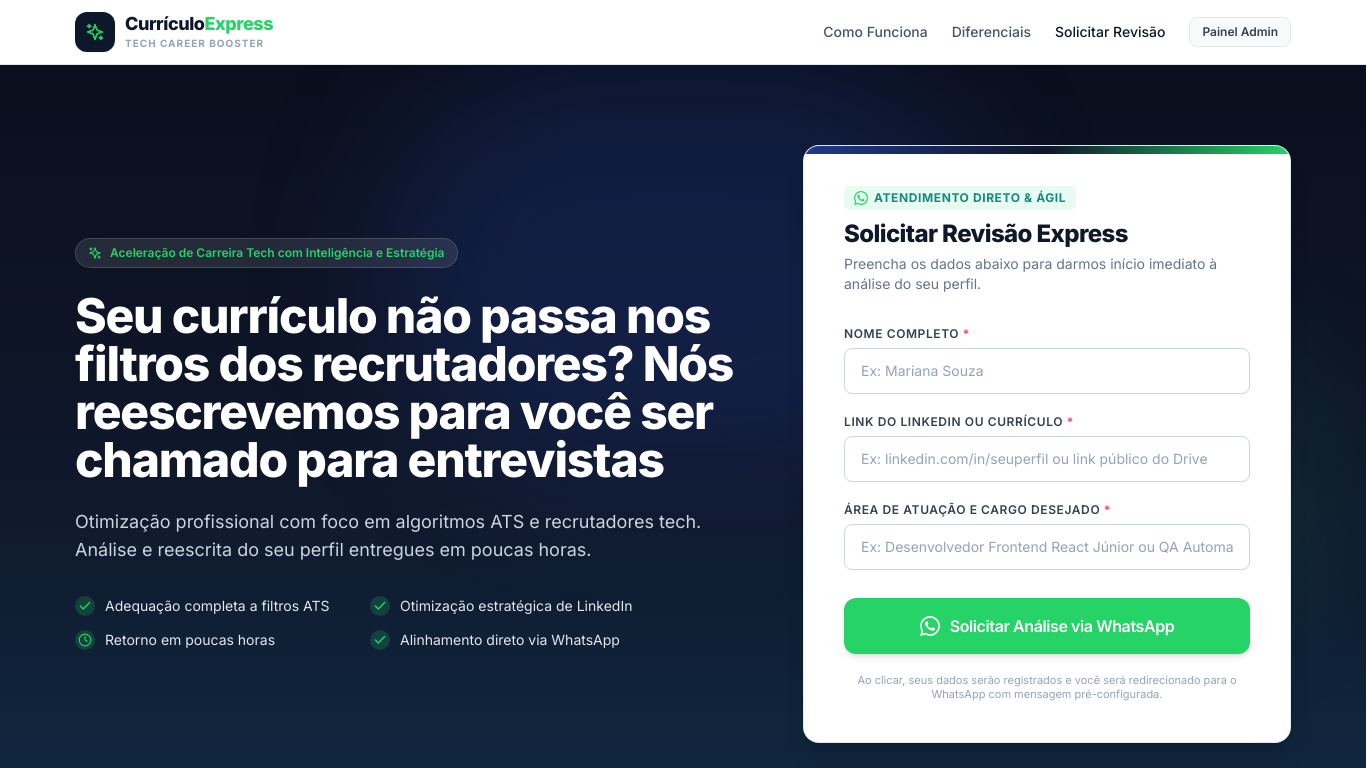
Test case: LandingPage Component › validates required fields on empty submit and displays error hints
The width and height of the screenshot is (1366, 768).
Click the button "Solicitar Análise via WhatsApp": (1047, 626) left=844, top=598, right=1250, bottom=654
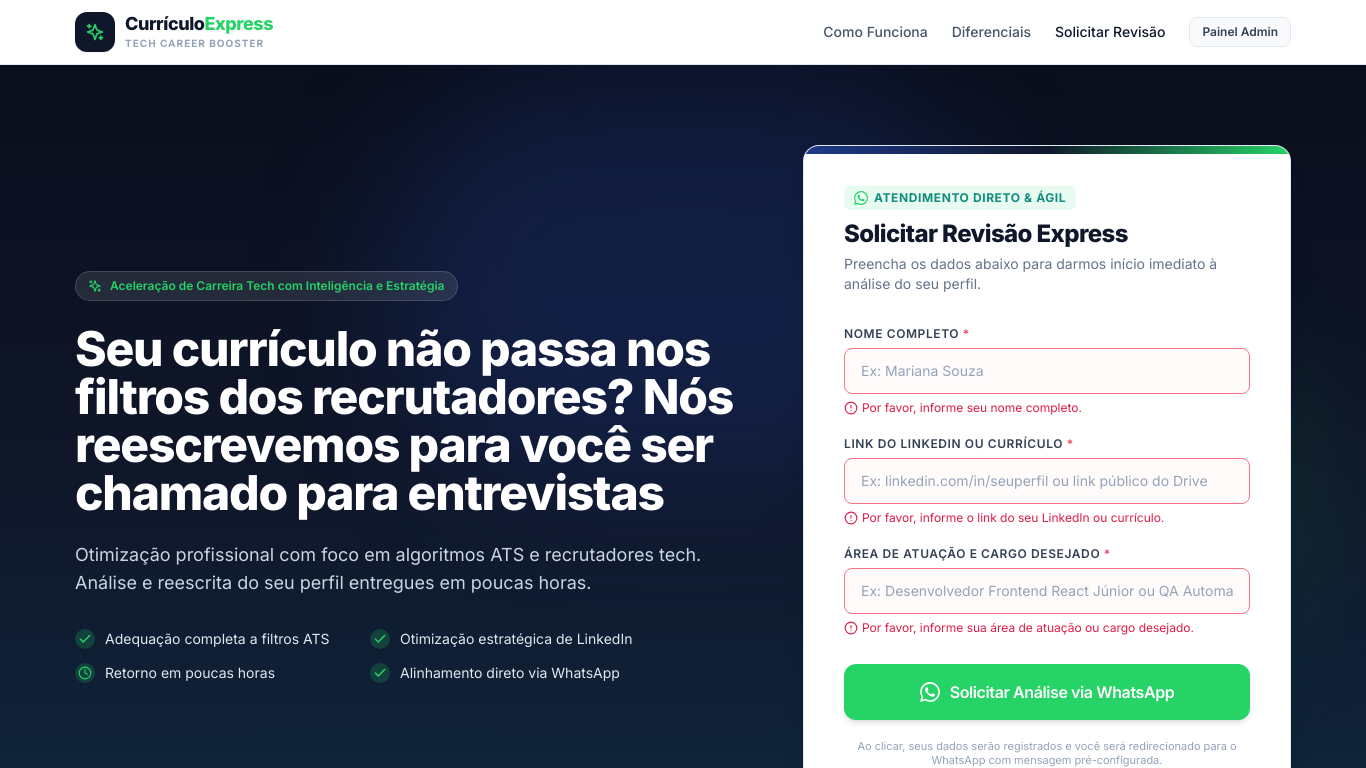
Expected: the text "Por favor, informe seu nome completo." is shown, left=862, top=400, right=1082, bottom=416
Expected: the text "Por favor, informe o link do seu LinkedIn ou currículo." is shown, left=862, top=510, right=1164, bottom=526
Expected: the text "Por favor, informe sua área de atuação ou cargo desejado." is shown, left=862, top=620, right=1194, bottom=636
